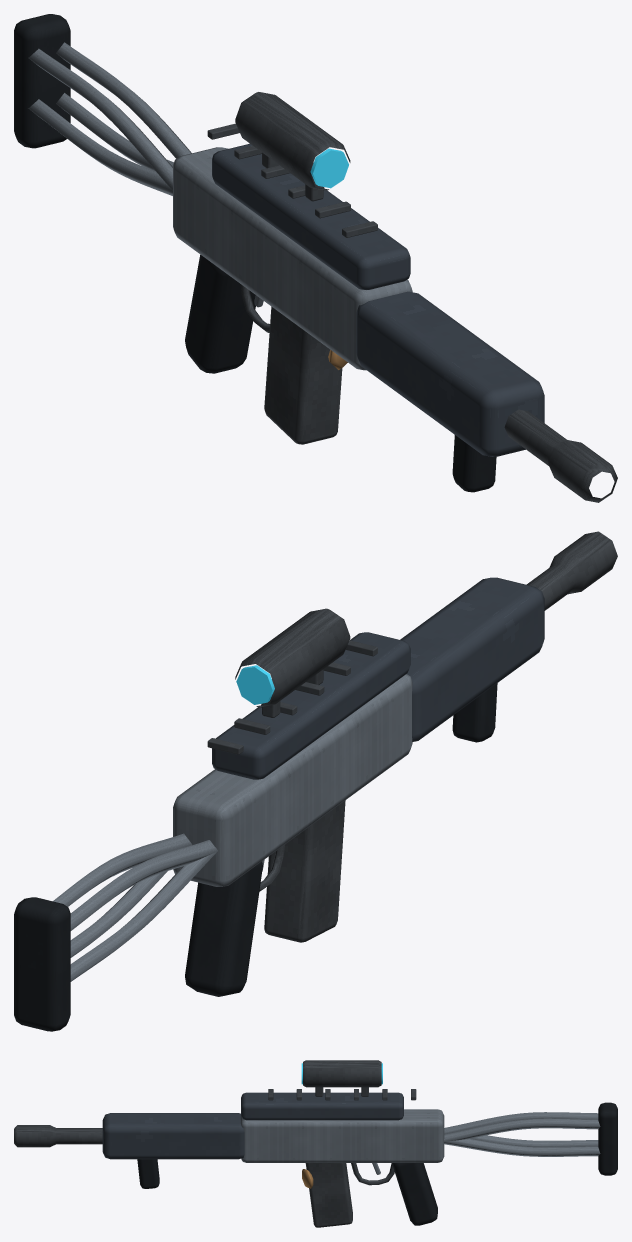
The model's file is pulse-rifle.lod2.glb.
3 views of the same model, one above another, from view 1: azimuth 30°, elevation 25°; view 2: azimuth 150°, elevation 25°; view 3: azimuth 270°, elevation 25° (orthographic). The views are drawn at different scales.
Parts seen in each view (by area): view 1: ceramic / ceramic composite panel, alloy / machined anodized alloy, darksteel / oil-blackened fittings, polymer / stippled polymer, crystal / faceted crystal; view 2: alloy / machined anodized alloy, ceramic / ceramic composite panel, darksteel / oil-blackened fittings, polymer / stippled polymer, crystal / faceted crystal; view 3: alloy / machined anodized alloy, ceramic / ceramic composite panel, darksteel / oil-blackened fittings, polymer / stippled polymer.
Part boxes in pixels (box(x1,y1,x2,y2)): ceramic / ceramic composite panel: box(212, 143, 544, 456); alloy / machined anodized alloy: box(28, 42, 412, 370); darksteel / oil-blackened fittings: box(207, 92, 617, 502); polymer / stippled polymer: box(14, 14, 496, 492); crystal / faceted crystal: box(310, 148, 348, 188); alloy / machined anodized alloy: box(53, 674, 412, 981); ceramic / ceramic composite panel: box(212, 577, 544, 779); darksteel / oil-blackened fittings: box(207, 531, 617, 942); polymer / stippled polymer: box(14, 683, 497, 1031); crystal / faceted crystal: box(236, 665, 274, 704); alloy / machined anodized alloy: box(240, 1109, 600, 1174); ceramic / ceramic composite panel: box(102, 1092, 403, 1159); darksteel / oil-blackened fittings: box(14, 1060, 416, 1227); polymer / stippled polymer: box(137, 1102, 617, 1225).
Size of the model in its own units: 0.0614 by 0.2744 by 0.9208.
Materials: 6 (4 with a texture image).
